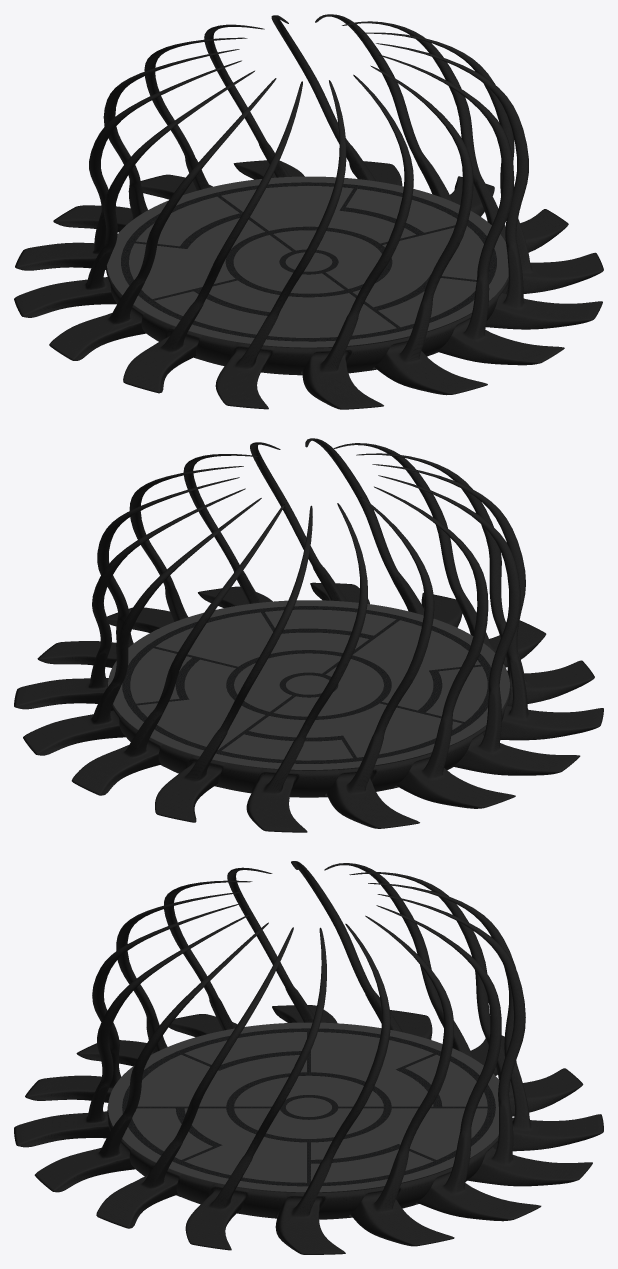
The model's file is xenogothika-cage.glb.
3 views of the same model, one above another, from view 1: azimuth 30°, elevation 25°; view 2: azimuth 150°, elevation 25°; view 3: azimuth 270°, elevation 25° (orthographic).
Visible parts, largest first — view 1: Cage, Base, Streets; view 2: Cage, Base, Streets; view 3: Cage, Base, Streets.
Part boxes in pixels (bbox=[...]): Cage: bbox=[14, 14, 603, 409]; Base: bbox=[107, 176, 508, 348]; Streets: bbox=[121, 182, 496, 341]; Cage: bbox=[14, 438, 603, 832]; Base: bbox=[108, 600, 509, 770]; Streets: bbox=[122, 606, 490, 763]; Cage: bbox=[14, 861, 603, 1254]; Base: bbox=[108, 1022, 499, 1193]; Streets: bbox=[122, 1028, 495, 1186].
Size of the model in its own units: 294 by 144 by 294.
3 materials, 2 textured.
